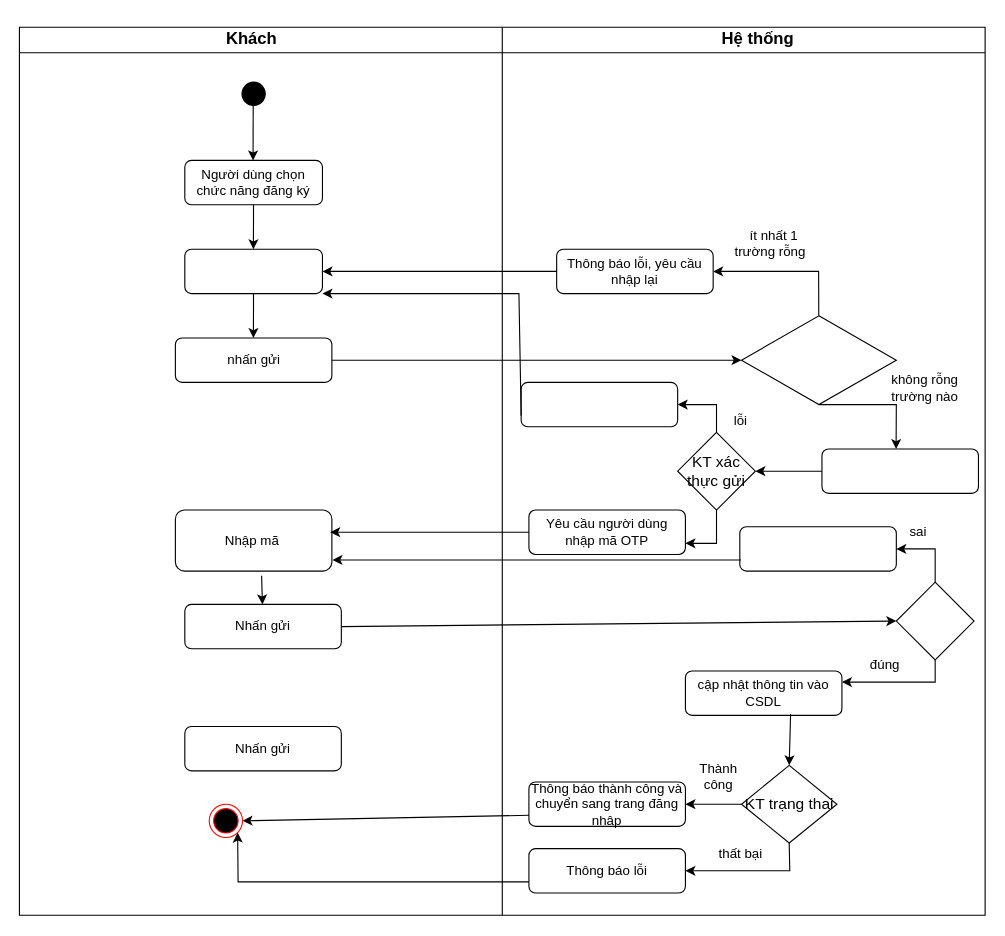
Some shapes in this 1005 by 936 pixel diagram are drawn without their labels. Each missing label, with the box of its shape:
Gửi OTP về email: (821, 448, 978, 493)
KT OTP: (895, 581, 974, 660)
KT trạng thái rỗng: (740, 315, 896, 405)
Nhập thông tin đăng ký: (184, 248, 322, 294)
Thông báo lỗi và yêu cầu nhập lại: (739, 526, 896, 571)
Thông báo lỗi, yêu cầu nhập lại gmail: (520, 381, 678, 427)
